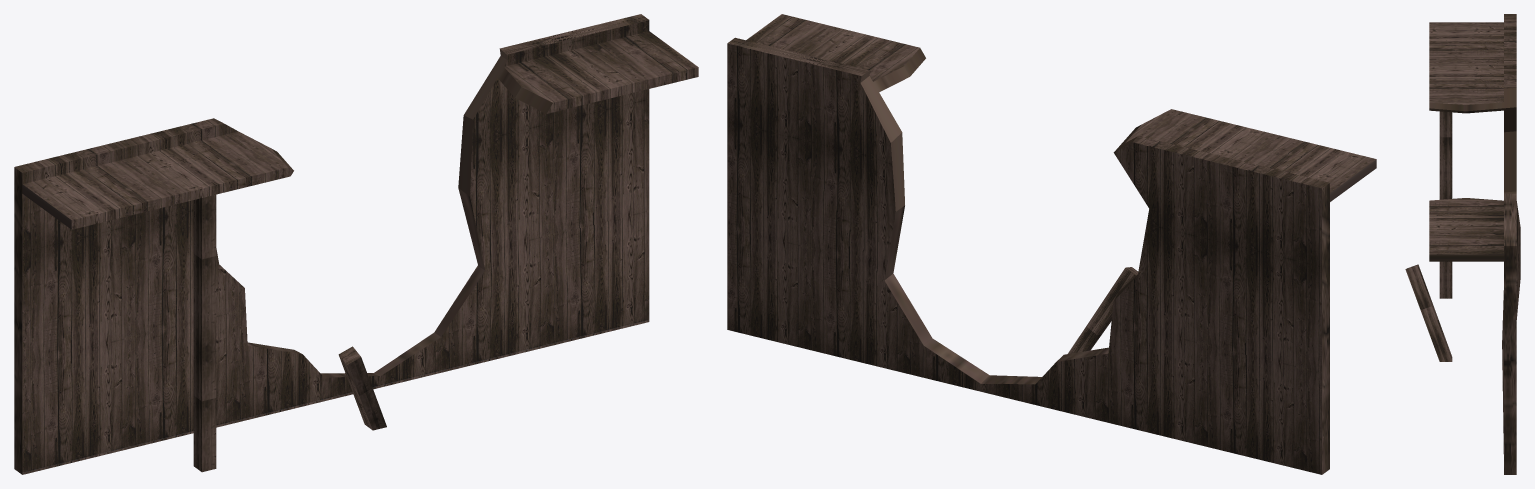
Rendered from ShortWallBreach.fbx.
3 views of the same model, side by side, from view 1: azimuth 30°, elevation 25°; view 2: azimuth 150°, elevation 25°; view 3: azimuth 270°, elevation 25° (orthographic). The views are drawn at different scales.
Parts seen in each view (by area): view 1: ShortWallBreach; view 2: ShortWallBreach; view 3: ShortWallBreach.
Boxes of the visible parts, box(x1,y1,x2,y2) form: ShortWallBreach: box(14, 14, 698, 474); ShortWallBreach: box(727, 14, 1376, 474); ShortWallBreach: box(1405, 14, 1520, 474).
Size of the model in its own units: 2200 by 1012 by 461.
